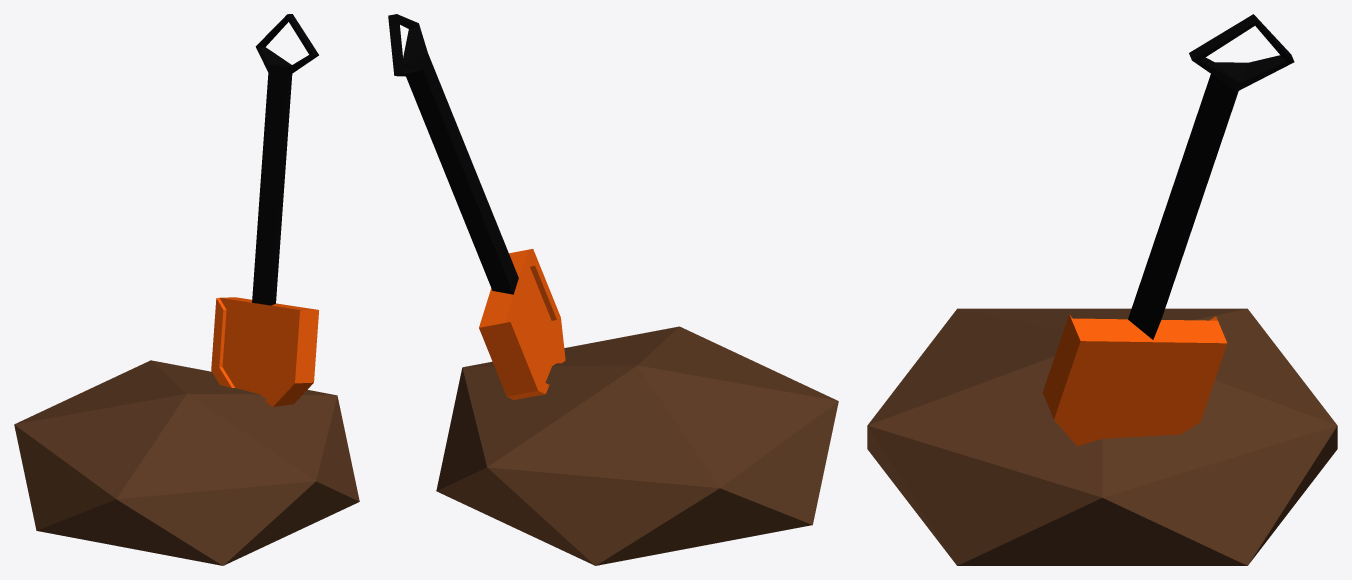
File: Uitdagingen2.glb
3 renders of one model, left to right at view 1: azimuth 30°, elevation 25°; view 2: azimuth 150°, elevation 25°; view 3: azimuth 270°, elevation 25°, orthographic. The views are drawn at different scales.
Parts seen in each view (by area): view 1: Icosphere.002, Cube.026, Cylinder.001; view 2: Icosphere.002, Cylinder.001, Cube.026; view 3: Icosphere.002, Cube.026, Cylinder.001.
Boxes of the visible parts, left/top/right/bottom form: Icosphere.002: left=14, top=360, right=359, bottom=565; Cube.026: left=211, top=297, right=318, bottom=406; Cylinder.001: left=252, top=14, right=318, bottom=305; Icosphere.002: left=436, top=326, right=838, bottom=565; Cylinder.001: left=388, top=14, right=518, bottom=294; Cube.026: left=479, top=249, right=565, bottom=399; Icosphere.002: left=867, top=308, right=1337, bottom=565; Cube.026: left=1042, top=314, right=1227, bottom=446; Cylinder.001: left=1128, top=14, right=1294, bottom=339.
Bounding box in the file's own units: 2.97 × 3.99 × 2.71.
